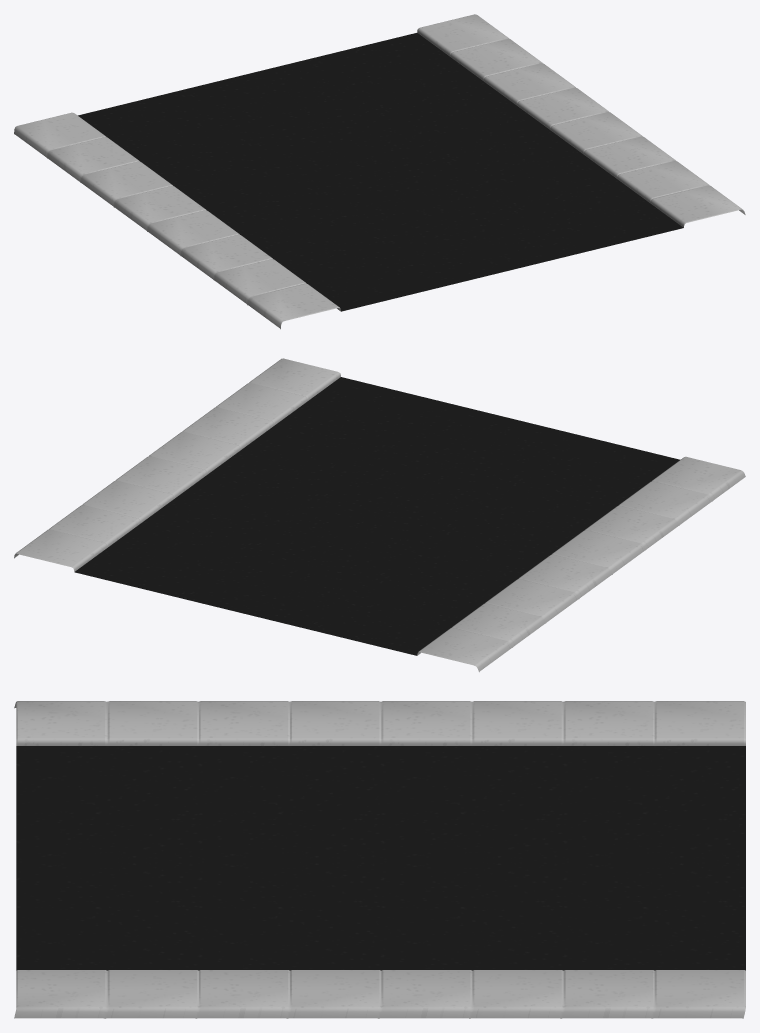
Rendered from Road_01.fbx.
3 views of the same model, one above another, from view 1: azimuth 30°, elevation 25°; view 2: azimuth 150°, elevation 25°; view 3: azimuth 270°, elevation 25° (orthographic). The views are drawn at different scales.
Visible parts, largest first — view 1: Road_01; view 2: Road_01; view 3: Road_01.
Boxes of the visible parts, box(x1,y1,x2,y2) form: Road_01: box(14, 14, 745, 329); Road_01: box(14, 358, 745, 672); Road_01: box(14, 701, 745, 1018).
Size of the model in its own units: 10.06 by 0.148 by 10.03.
